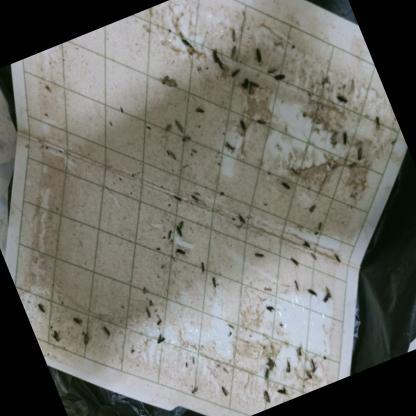prays_oleae: (72, 327, 96, 359), (330, 84, 352, 112), (45, 322, 67, 350), (368, 107, 388, 137), (206, 272, 228, 299), (304, 196, 324, 224), (300, 279, 322, 304), (330, 246, 348, 276), (226, 59, 246, 86), (350, 140, 370, 166), (230, 204, 249, 230), (220, 132, 238, 159), (224, 22, 242, 49), (222, 40, 242, 62), (192, 99, 210, 123), (162, 142, 180, 166), (277, 172, 294, 196), (98, 318, 115, 342), (274, 68, 294, 88), (194, 255, 212, 277), (171, 112, 189, 134), (244, 75, 262, 97), (173, 240, 189, 264), (68, 308, 86, 329), (235, 115, 250, 139), (251, 45, 269, 65), (152, 328, 168, 350), (292, 340, 308, 362), (249, 245, 267, 264), (176, 128, 194, 147), (306, 357, 322, 378), (161, 118, 177, 138), (35, 298, 51, 318), (278, 358, 295, 376), (262, 300, 279, 317), (288, 249, 302, 269), (258, 362, 272, 380), (301, 368, 315, 386), (336, 127, 350, 145), (260, 388, 274, 405), (275, 382, 289, 399), (238, 74, 252, 90), (322, 281, 334, 298), (300, 235, 313, 250), (312, 219, 325, 232), (174, 222, 186, 236), (289, 278, 301, 291), (321, 291, 333, 303)
